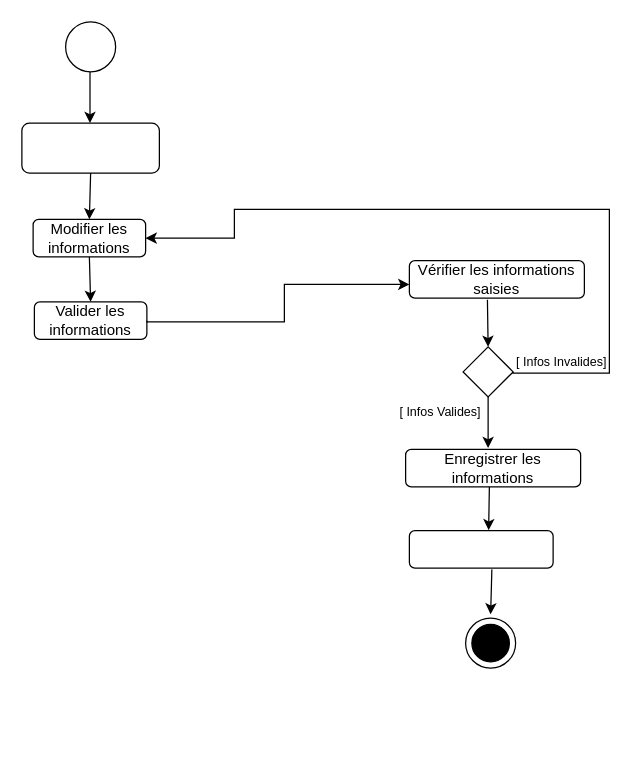
Image size: 641x769. Some labels were removed from this diagram. Each missing label, with the centre of its shape:
Choisir "Editer mes informations": (90,147)
Renvoyer message de confirmation: (480,548)
